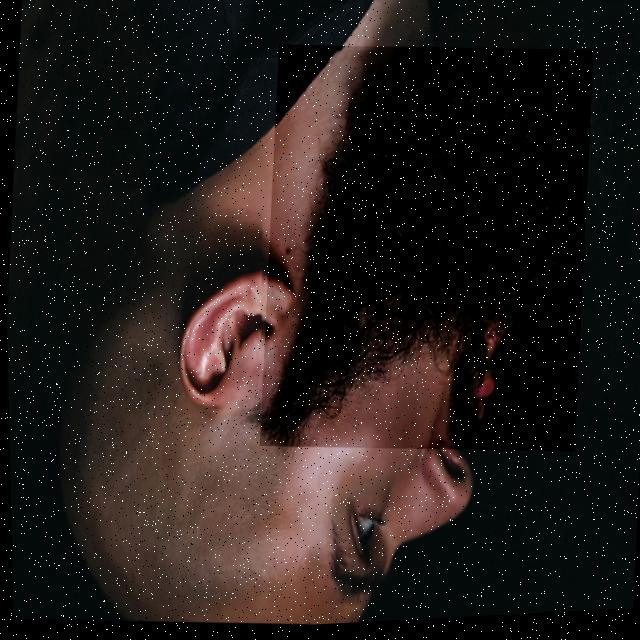beard: (258, 52, 585, 449)
